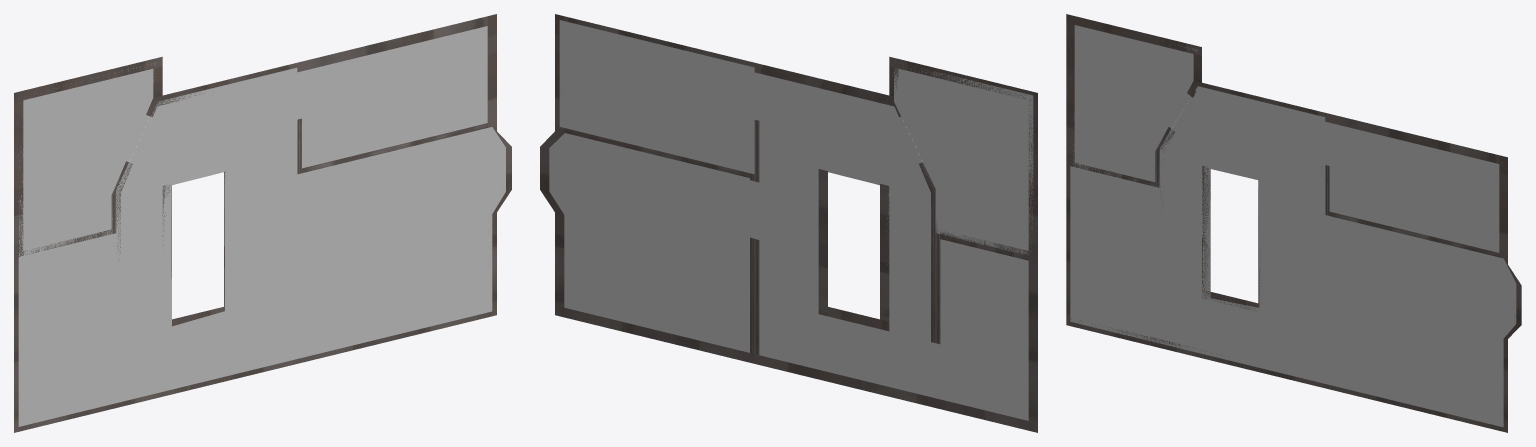
Rendered from house1.FBX.
3 renders of one model, left to right at view 1: azimuth 30°, elevation 25°; view 2: azimuth 150°, elevation 25°; view 3: azimuth 330°, elevation 25°, orthographic. The views are drawn at different scales.
Parts seen in each view (by area): view 1: house1_hall_floor, house1_bedroom_floor, house1_bathroom_floor, house1_study_floor, house1_guest_room_floor, house1_walls; view 2: house1_hall_floor, house1_bedroom_floor, house1_walls, house1_bathroom_floor, house1_study_floor, house1_guest_room_floor; view 3: house1_hall_floor, house1_bedroom_floor, house1_bathroom_floor, house1_study_floor, house1_guest_room_floor, house1_walls.
Part boxes in pixels (bbox=[...]): house1_hall_floor: bbox=[116, 67, 297, 402]; house1_bedroom_floor: bbox=[297, 127, 505, 358]; house1_bathroom_floor: bbox=[297, 26, 487, 168]; house1_study_floor: bbox=[18, 62, 155, 256]; house1_guest_room_floor: bbox=[18, 233, 116, 426]; house1_walls: bbox=[14, 14, 511, 432]; house1_hall_floor: bbox=[754, 72, 935, 398]; house1_bedroom_floor: bbox=[549, 133, 754, 352]; house1_walls: bbox=[540, 14, 1037, 432]; house1_bathroom_floor: bbox=[559, 20, 754, 174]; house1_study_floor: bbox=[894, 64, 1033, 255]; house1_guest_room_floor: bbox=[935, 239, 1028, 420]; house1_hall_floor: bbox=[1159, 86, 1325, 383]; house1_bedroom_floor: bbox=[1325, 215, 1516, 427]; house1_bathroom_floor: bbox=[1325, 121, 1502, 252]; house1_study_floor: bbox=[1070, 25, 1197, 186]; house1_guest_room_floor: bbox=[1070, 166, 1159, 343]; house1_walls: bbox=[1066, 14, 1521, 432].
Size of the model in its own units: 1072 by 0.000168 by 700.
Materials: 1 (1 with a texture image).
